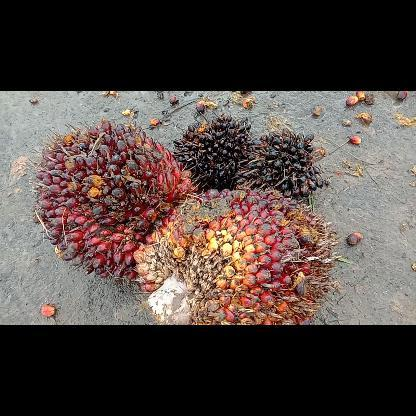TBS abnormal: (232, 126, 326, 200), (169, 112, 254, 192)
TBS masak: (130, 184, 340, 324), (26, 116, 196, 284)
